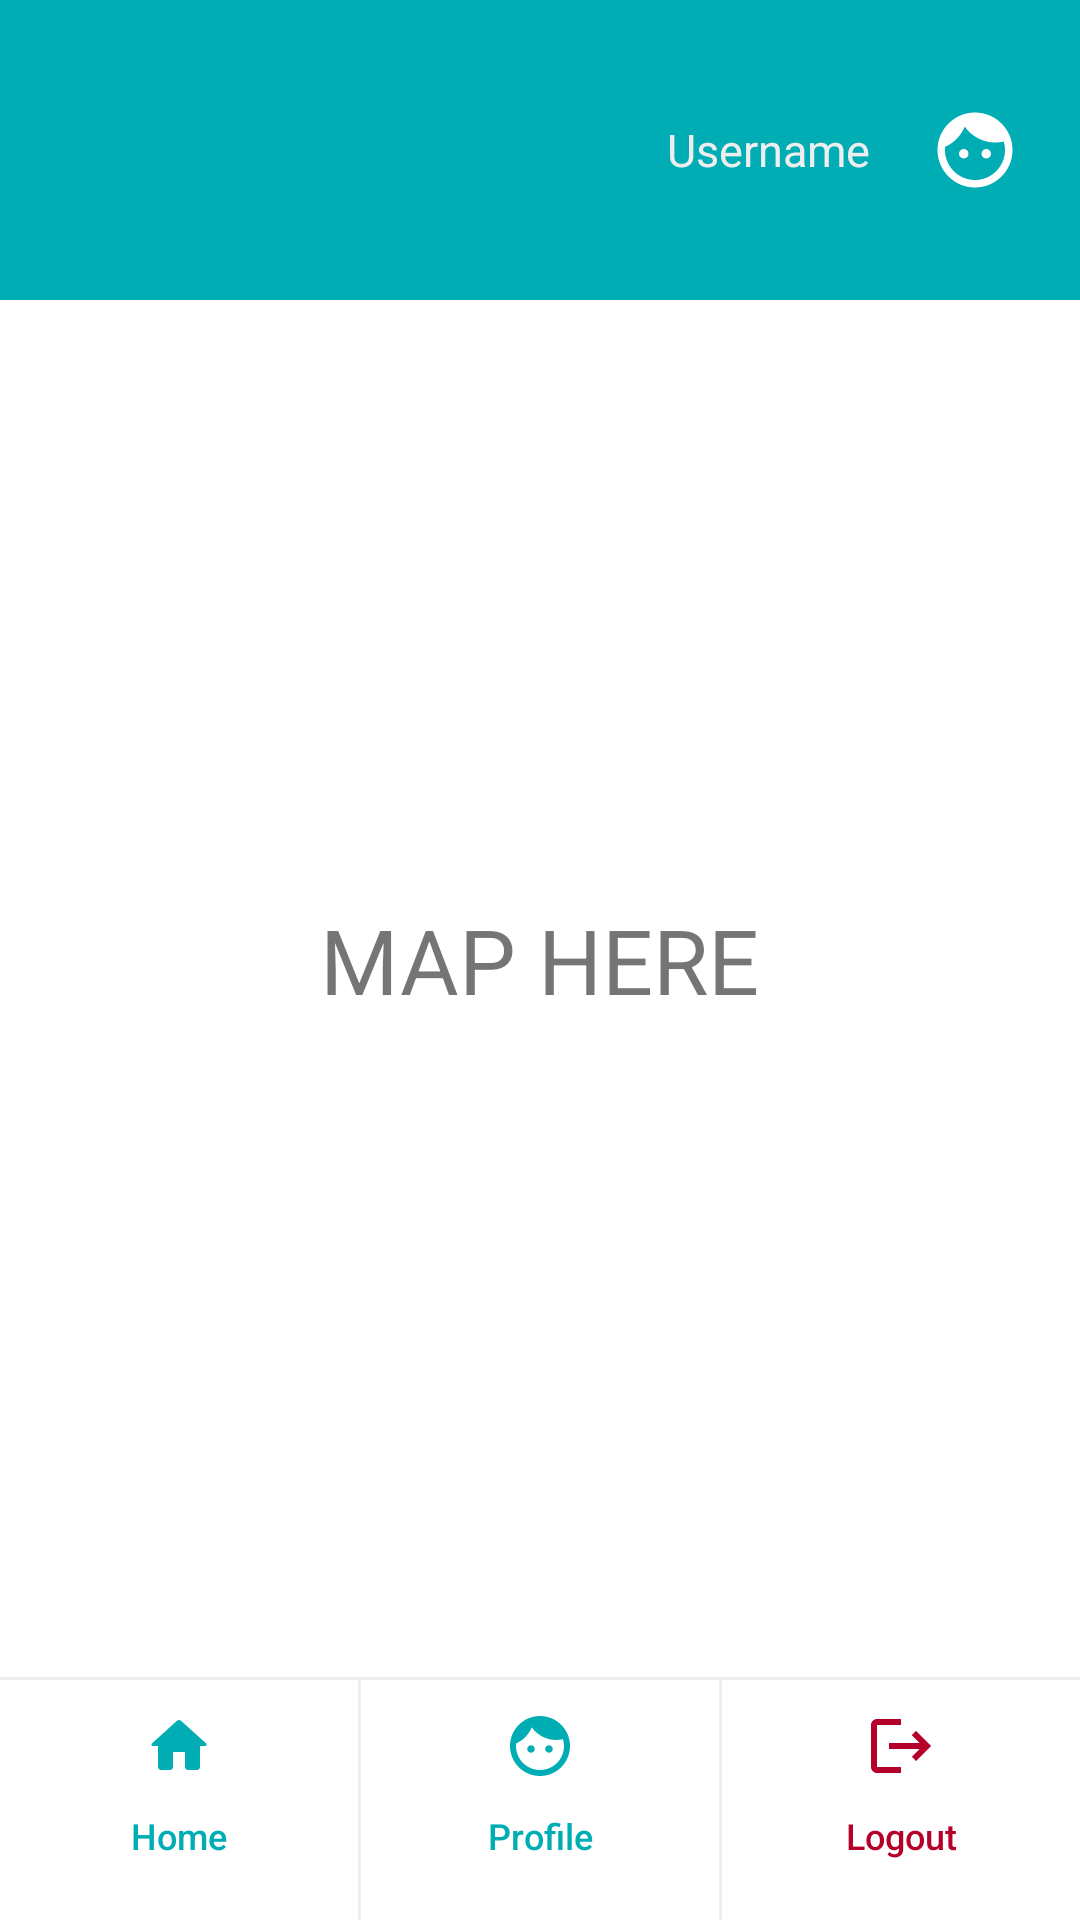

Icons on this 1080 x 1920 Android screen, each with its box as detection(x1, y1, x2, y2):
face: detection(937, 112, 1013, 188)
